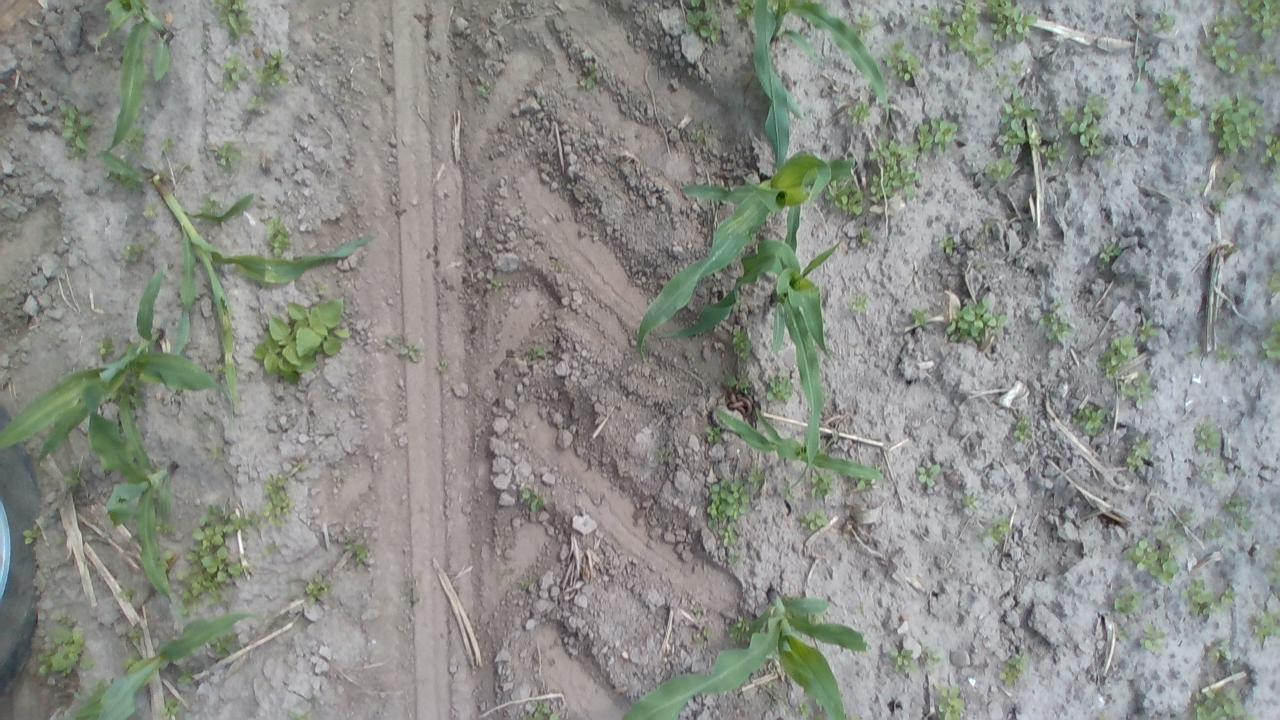Maize: (101, 149, 374, 396), (2, 263, 235, 473), (655, 237, 843, 489), (638, 152, 856, 368), (619, 587, 869, 720), (752, 0, 891, 174), (85, 386, 180, 604), (72, 612, 256, 720), (711, 404, 886, 483), (102, 0, 178, 160)
Weeds: (252, 298, 347, 378), (1207, 94, 1264, 161), (178, 550, 222, 618), (948, 299, 1006, 341), (60, 99, 96, 152), (52, 632, 94, 674), (203, 505, 261, 534), (1194, 687, 1246, 719), (942, 2, 978, 44), (264, 478, 294, 528), (201, 547, 241, 580), (1095, 336, 1138, 366), (1004, 92, 1038, 129), (1200, 38, 1238, 70), (1236, 53, 1278, 81), (1149, 547, 1181, 581), (1166, 96, 1200, 127), (1224, 494, 1254, 528), (1168, 507, 1196, 543), (1046, 304, 1072, 342), (1073, 406, 1107, 435), (980, 515, 1016, 542), (764, 372, 794, 402), (1190, 461, 1222, 488), (938, 687, 964, 720), (682, 9, 716, 34), (1008, 6, 1036, 36), (1194, 421, 1221, 452), (1250, 8, 1276, 40), (1126, 540, 1156, 567), (228, 10, 253, 42), (1070, 122, 1100, 148), (883, 38, 909, 66), (934, 118, 958, 148), (1156, 76, 1190, 97), (952, 491, 984, 513), (1193, 595, 1220, 621), (866, 143, 894, 167), (1198, 518, 1222, 546), (984, 156, 1014, 178), (1258, 616, 1280, 646), (981, 0, 1014, 20), (344, 541, 369, 567), (1116, 587, 1146, 608), (1263, 325, 1280, 362), (892, 142, 916, 168), (1210, 15, 1234, 41), (798, 509, 829, 529), (396, 339, 424, 361), (1136, 318, 1158, 346), (1239, 0, 1277, 16), (732, 327, 752, 357), (1001, 128, 1025, 153), (968, 40, 994, 63), (872, 172, 892, 201), (999, 654, 1019, 683), (898, 56, 921, 81), (1127, 376, 1153, 398), (258, 66, 288, 85), (306, 580, 330, 603), (916, 463, 938, 488), (1142, 626, 1163, 652), (892, 648, 916, 670), (905, 310, 927, 334), (842, 190, 863, 215), (1009, 56, 1029, 82), (919, 8, 942, 30), (48, 621, 72, 642), (724, 374, 755, 390), (195, 526, 222, 544), (216, 142, 238, 164), (1154, 12, 1176, 34), (722, 482, 745, 503), (718, 524, 738, 548), (890, 167, 916, 185), (720, 503, 746, 521), (990, 20, 1011, 42), (849, 100, 870, 122), (809, 475, 831, 496), (266, 46, 289, 66), (919, 646, 942, 666), (214, 0, 246, 14), (225, 56, 242, 82), (267, 236, 290, 255), (916, 124, 932, 151), (125, 242, 145, 263), (1264, 135, 1278, 165), (1220, 582, 1239, 604), (1134, 56, 1145, 94), (268, 218, 288, 238), (66, 470, 85, 491), (850, 296, 869, 317), (1132, 436, 1150, 458), (160, 698, 180, 717), (706, 501, 726, 520), (700, 23, 720, 42), (707, 424, 725, 445), (1223, 167, 1241, 188), (1082, 105, 1100, 126), (853, 17, 876, 33), (1184, 580, 1204, 598), (578, 72, 598, 90), (1100, 243, 1120, 261), (1044, 142, 1066, 158), (742, 470, 765, 485), (1062, 105, 1080, 124), (1269, 273, 1280, 304), (1210, 645, 1230, 662), (1215, 344, 1232, 364), (214, 636, 232, 654), (142, 202, 160, 220), (97, 337, 115, 355), (1126, 455, 1144, 473), (858, 228, 875, 247), (710, 485, 729, 502), (1014, 421, 1030, 440), (36, 654, 50, 674), (23, 528, 40, 544), (734, 4, 750, 20), (520, 711, 552, 719), (659, 446, 672, 465), (250, 96, 266, 111), (854, 481, 873, 493), (530, 496, 544, 512), (476, 82, 492, 96), (527, 346, 543, 360), (736, 616, 750, 632), (942, 238, 956, 253), (118, 589, 138, 599), (266, 540, 280, 554), (690, 128, 704, 142), (726, 624, 739, 638), (56, 615, 72, 626), (534, 702, 550, 712), (438, 359, 449, 372), (492, 278, 502, 292), (693, 607, 706, 617), (794, 704, 806, 714), (521, 489, 528, 503), (691, 0, 702, 8)
